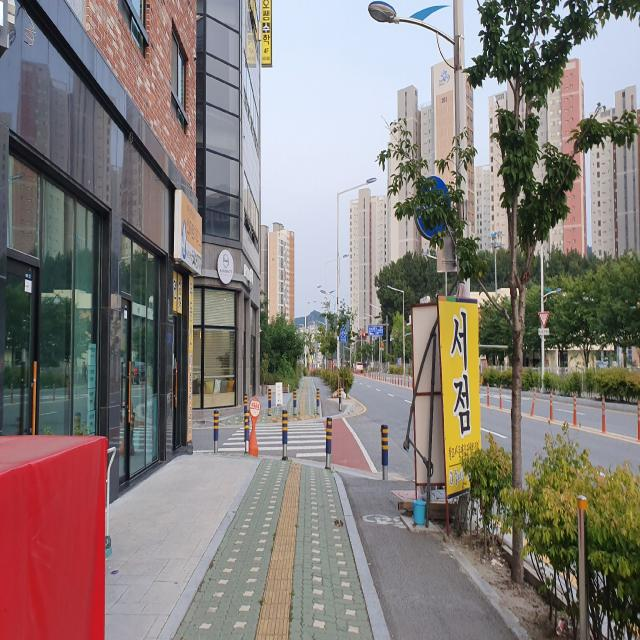횡단보도: (217, 422, 332, 458)
